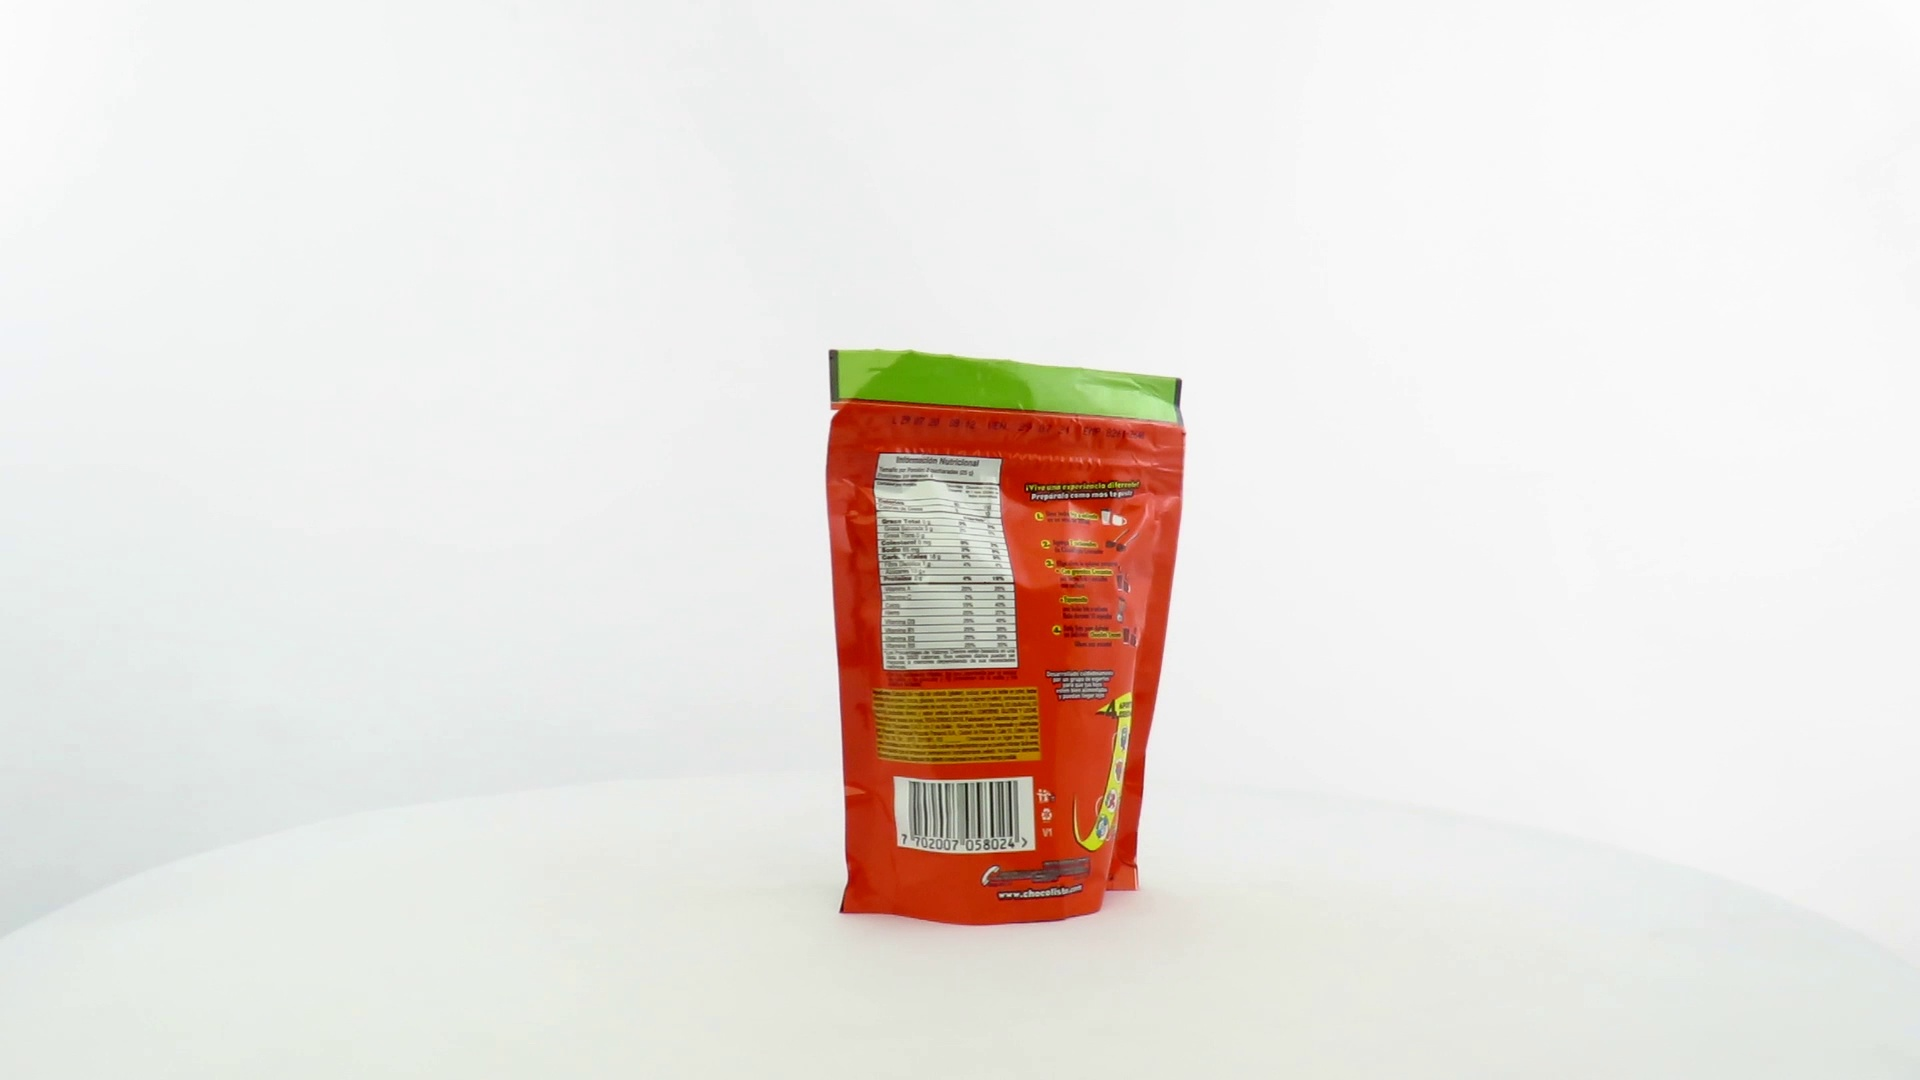COL0170102DYP10000: (820, 343, 1192, 932)
